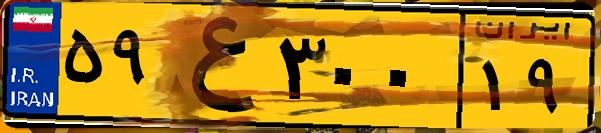0: (385, 28, 445, 110), (330, 28, 385, 110)
1: (475, 38, 525, 113)
3: (270, 28, 330, 110)
5: (57, 26, 110, 100)
9: (525, 38, 570, 115), (110, 28, 158, 98)
ع: (158, 12, 270, 120)
